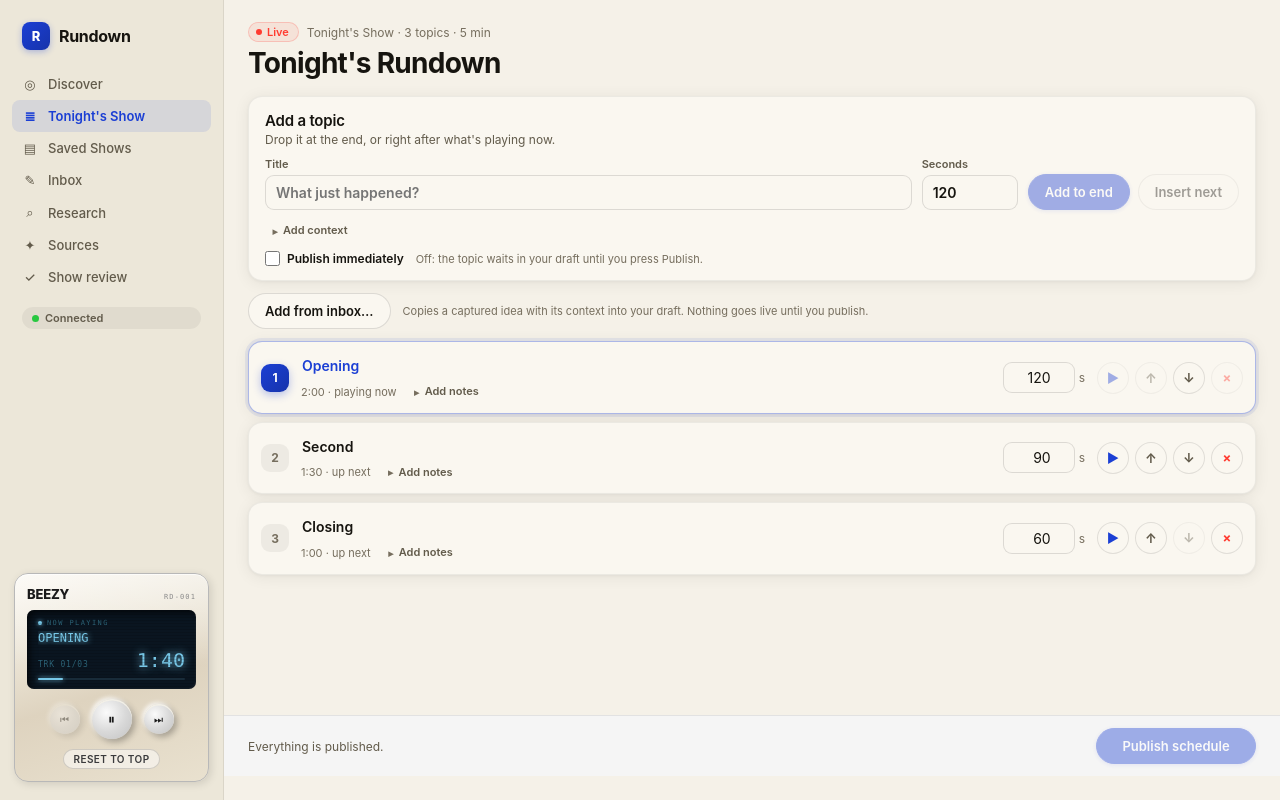
insert-next places the new topic after the current segment and publishes without an id
Expected: the field showing "Opening" is shown, 295,352 -> 985,379
Expected: the message named "API connection" reads "Connected", 45,311 -> 103,325
Type "Breaking drop" into the field named "New topic title" at point(588, 192), box 265,175 -> 912,210
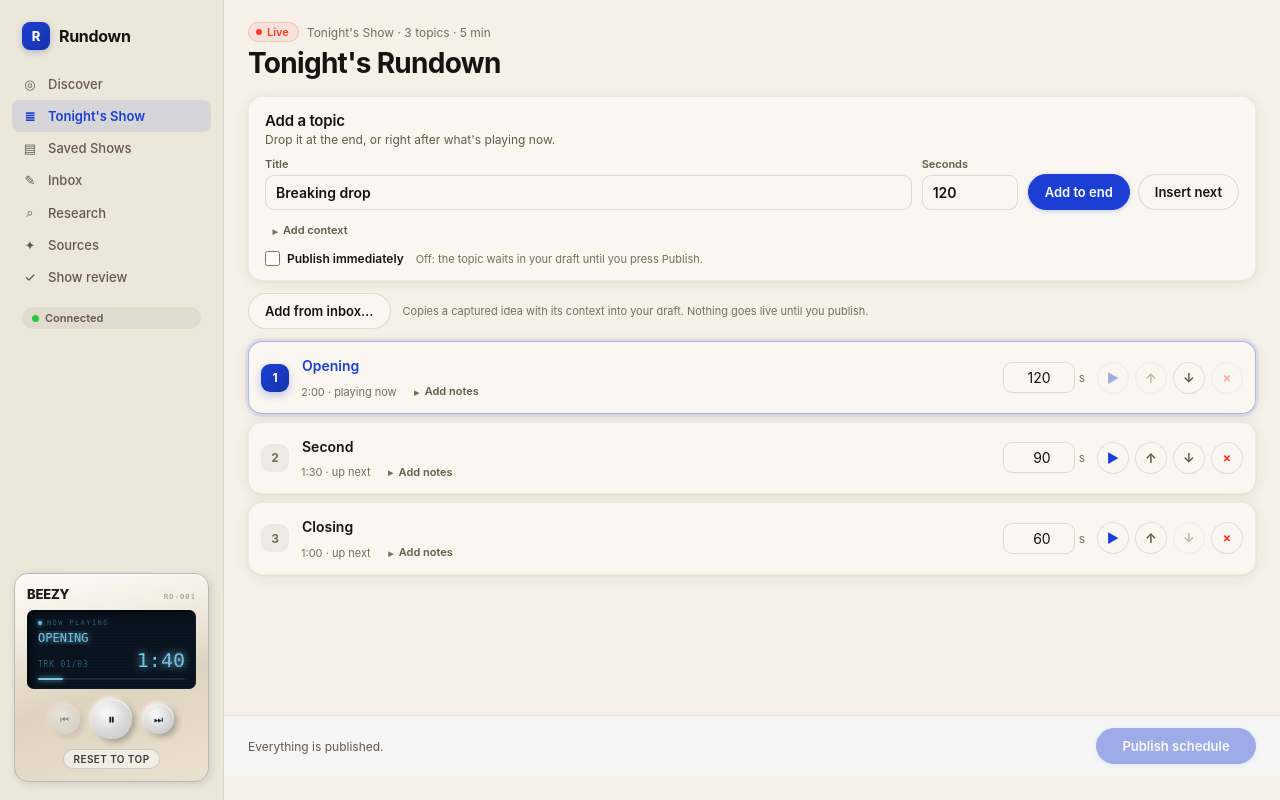
Replace the text in the number field named "New topic duration" with "45" at point(970, 192), box 922,175 -> 1018,210
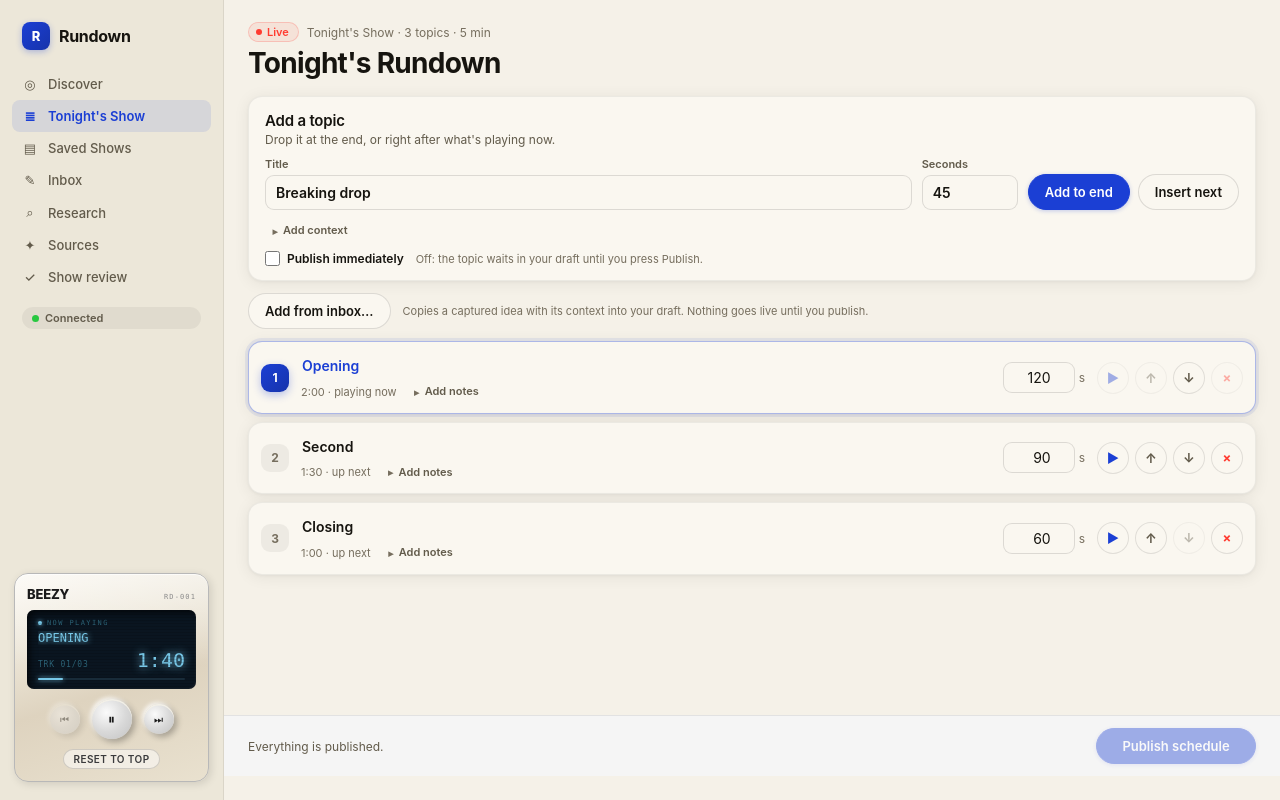
Click the button "Insert next" at point(1188, 192), box 1138,174 -> 1239,210
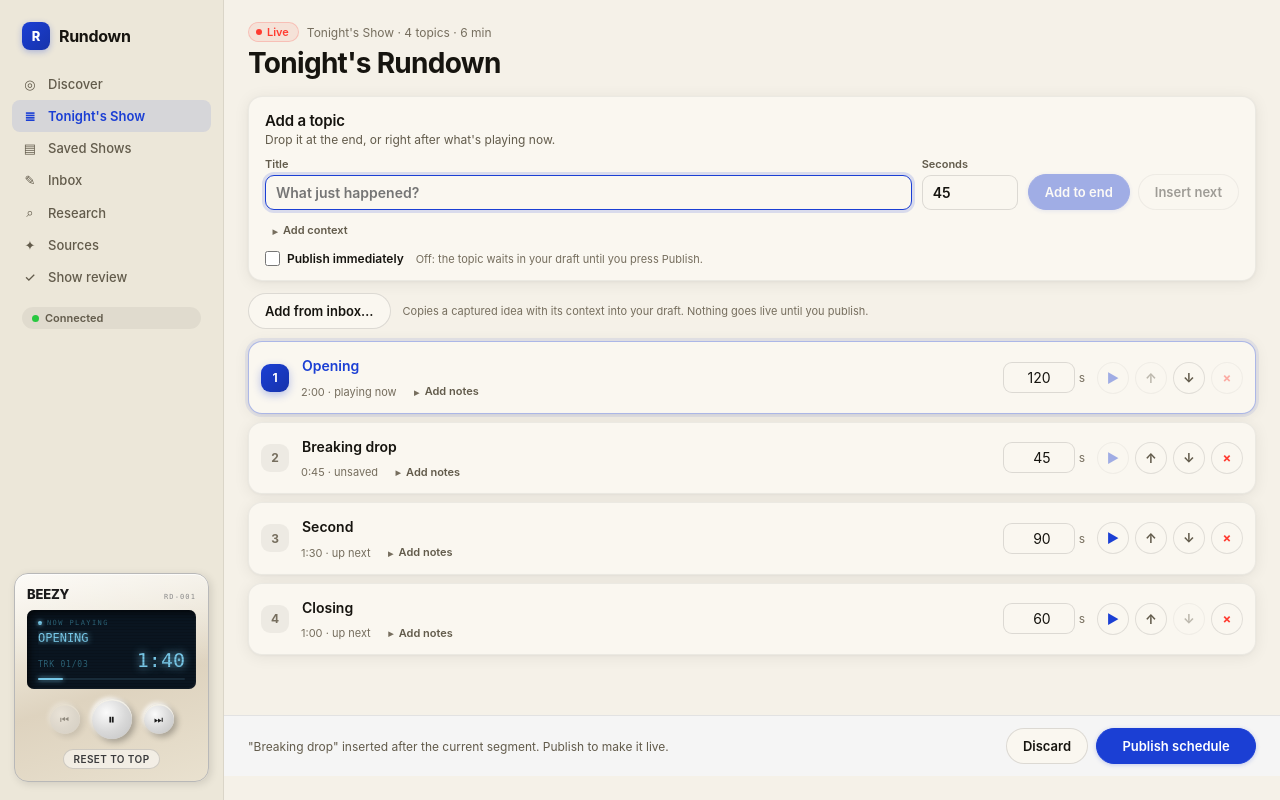
Expected: the text "\"Breaking drop\" inserted after the current segment. Publish to make it live." is shown, 248,738 -> 669,754
Click the button "Publish schedule" at point(1176, 746), box 1096,728 -> 1256,764
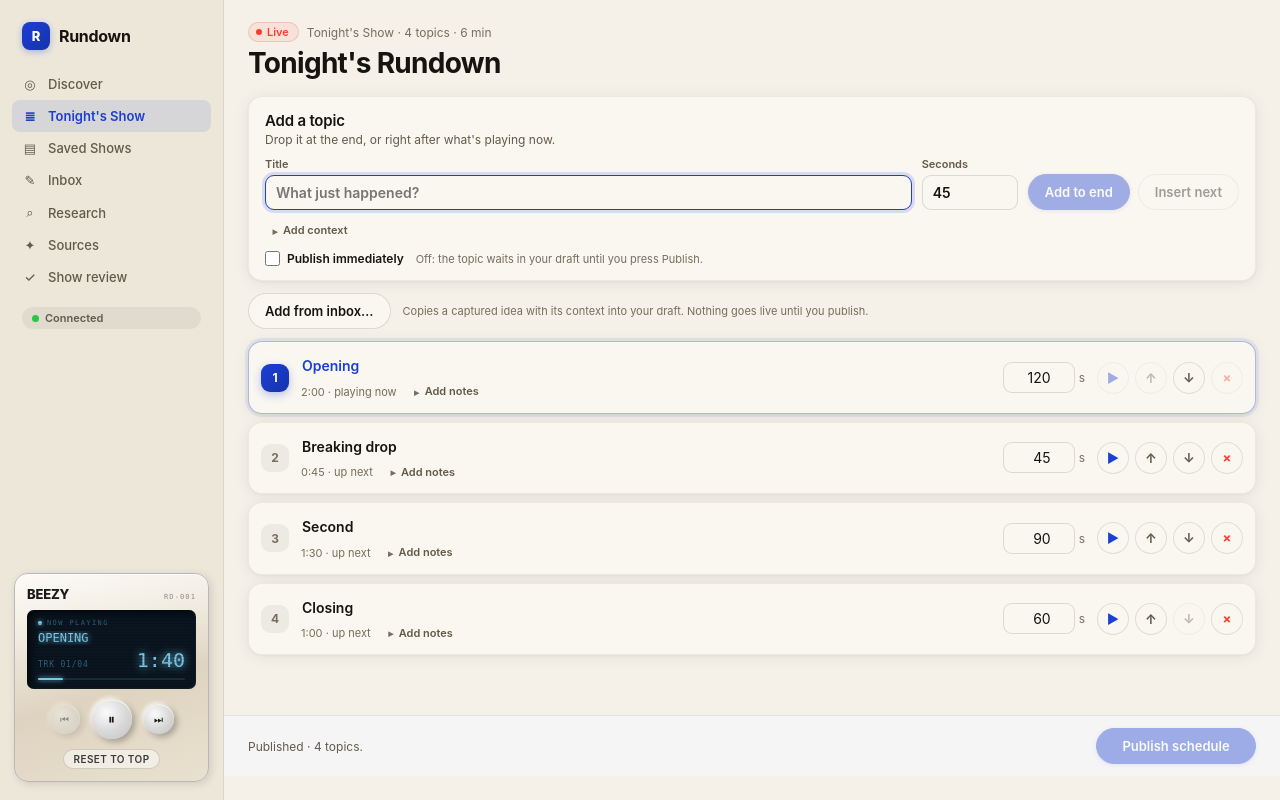
Expected: the text "Published · 4 topics." is shown, 248,738 -> 363,754
